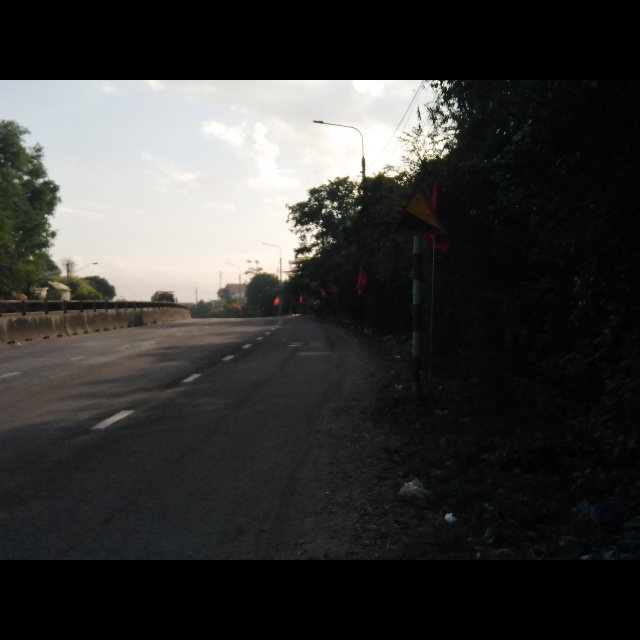Dốc lên nguy hiểm: (388, 183, 446, 238)
